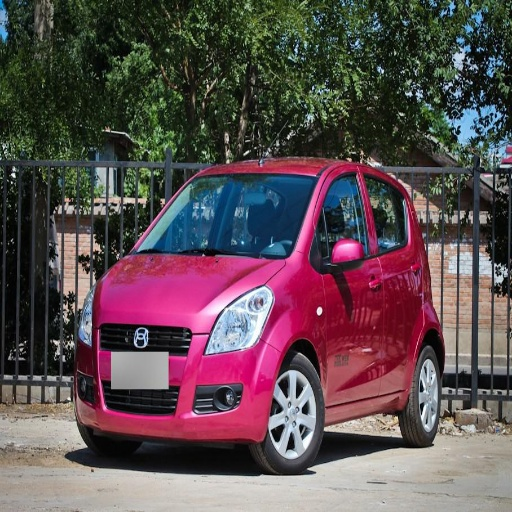back_left_door: (362, 169, 420, 393)
front_bumper: (75, 321, 284, 443)
front_glass: (135, 176, 317, 258)
front_left_door: (311, 168, 384, 405)
